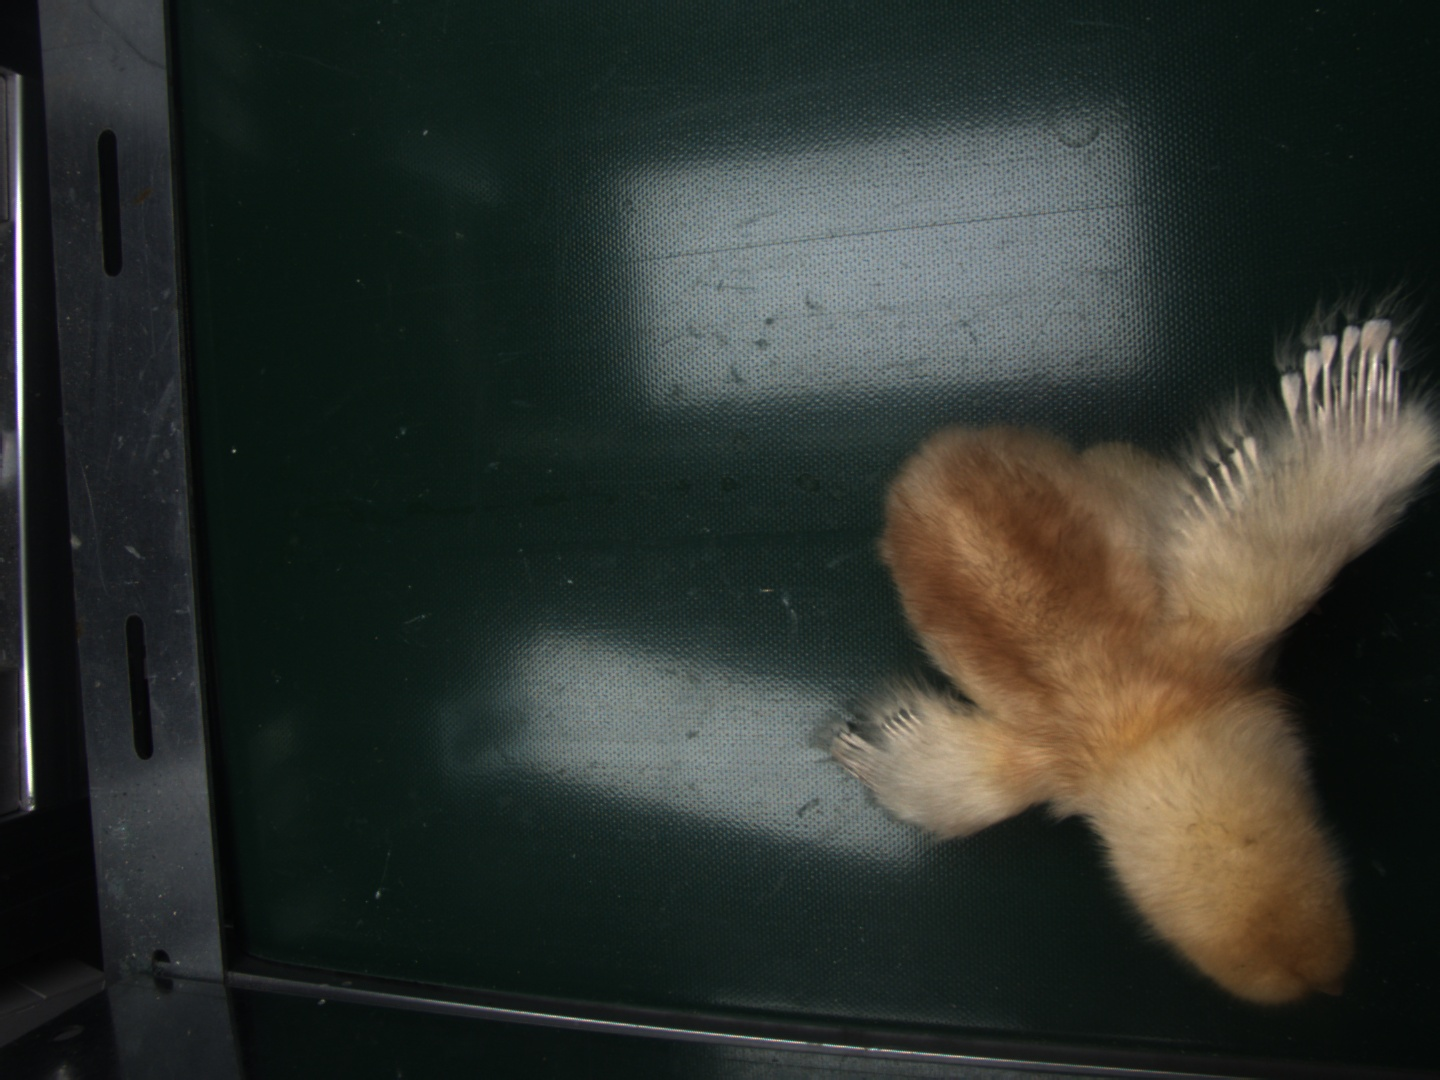female: (1289, 317, 1399, 432)
